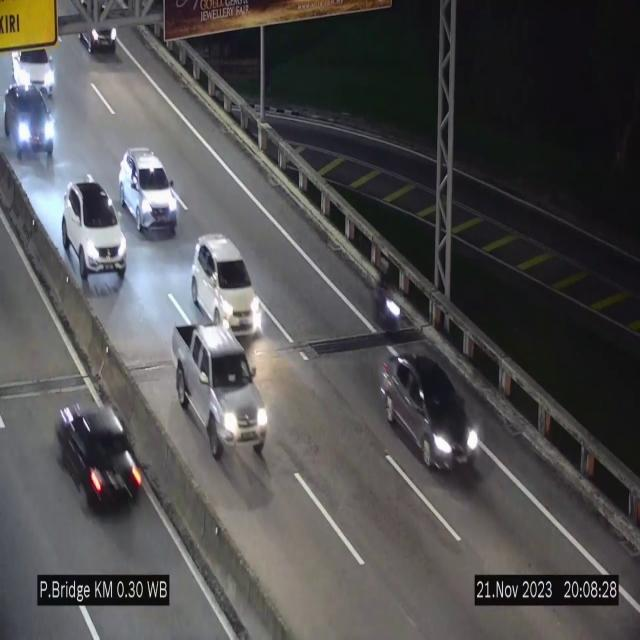Car: (379, 352, 479, 486), (173, 324, 268, 458), (190, 234, 262, 334), (62, 180, 126, 292), (119, 147, 179, 233), (1, 88, 64, 163), (8, 40, 56, 92)
Motorcycle: (376, 266, 402, 338)
